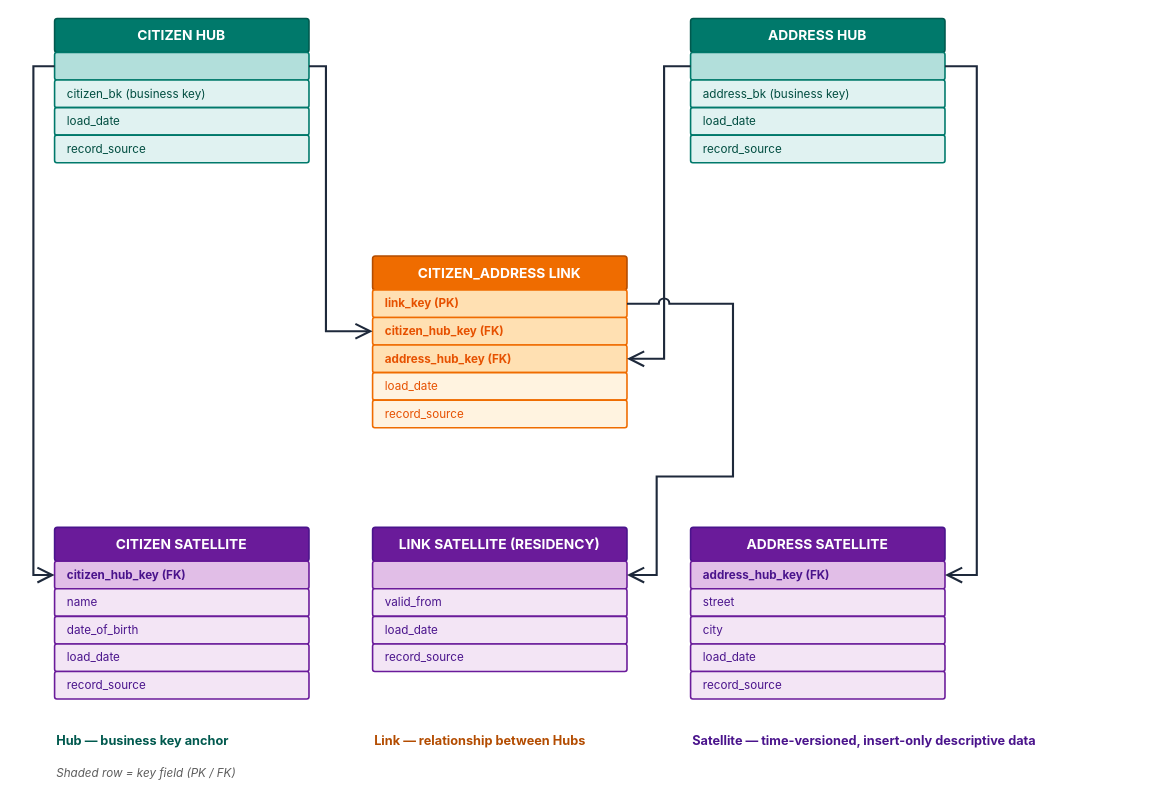
Image size: 1153x805. Some labels were removed from this diagram. The centre of each missing label's shape, as x and y in pixels:
"address_hub_key (PK)" belongs at [817,65].
"citizen_hub_key (PK)" belongs at [181,65].
"link_key (FK)" belongs at [499,574].
